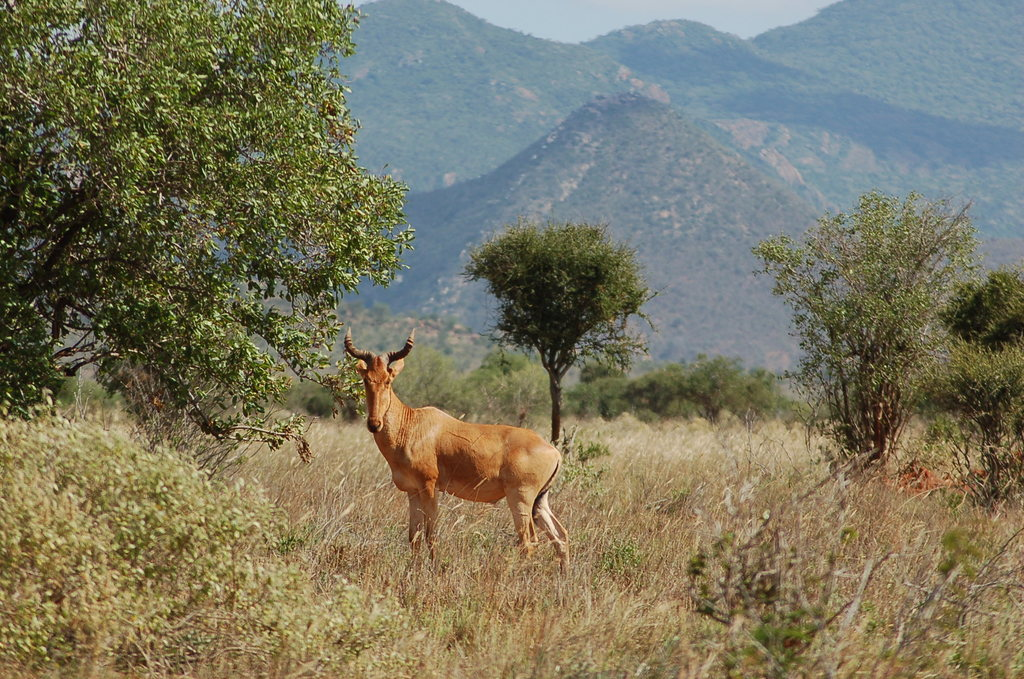Tree: (0, 0, 1023, 470)
